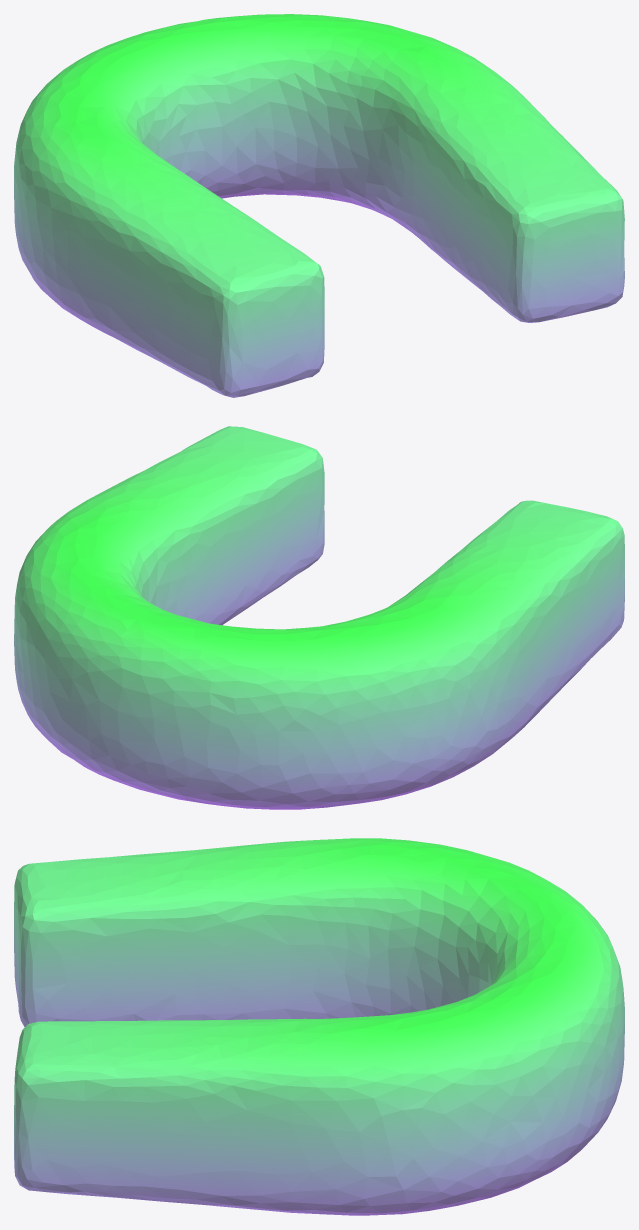
The model's file is 68_cyb_laser_gradient_fish_scales_2934_2026_10_03_78c2ba.glb.
The picture shows the model from 3 angles, top to bottom: view 1: azimuth 30°, elevation 25°; view 2: azimuth 150°, elevation 25°; view 3: azimuth 270°, elevation 25°; orthographic projection. The views are drawn at different scales.
Parts seen in each view (by area): view 1: geometry_0; view 2: geometry_0; view 3: geometry_0.
Part boxes in pixels (<box>): geometry_0: <box>14,14,624,397</box>; geometry_0: <box>14,426,624,809</box>; geometry_0: <box>14,838,624,1215</box>.
Size of the model in its own units: 0.9378 by 0.3255 by 1.
